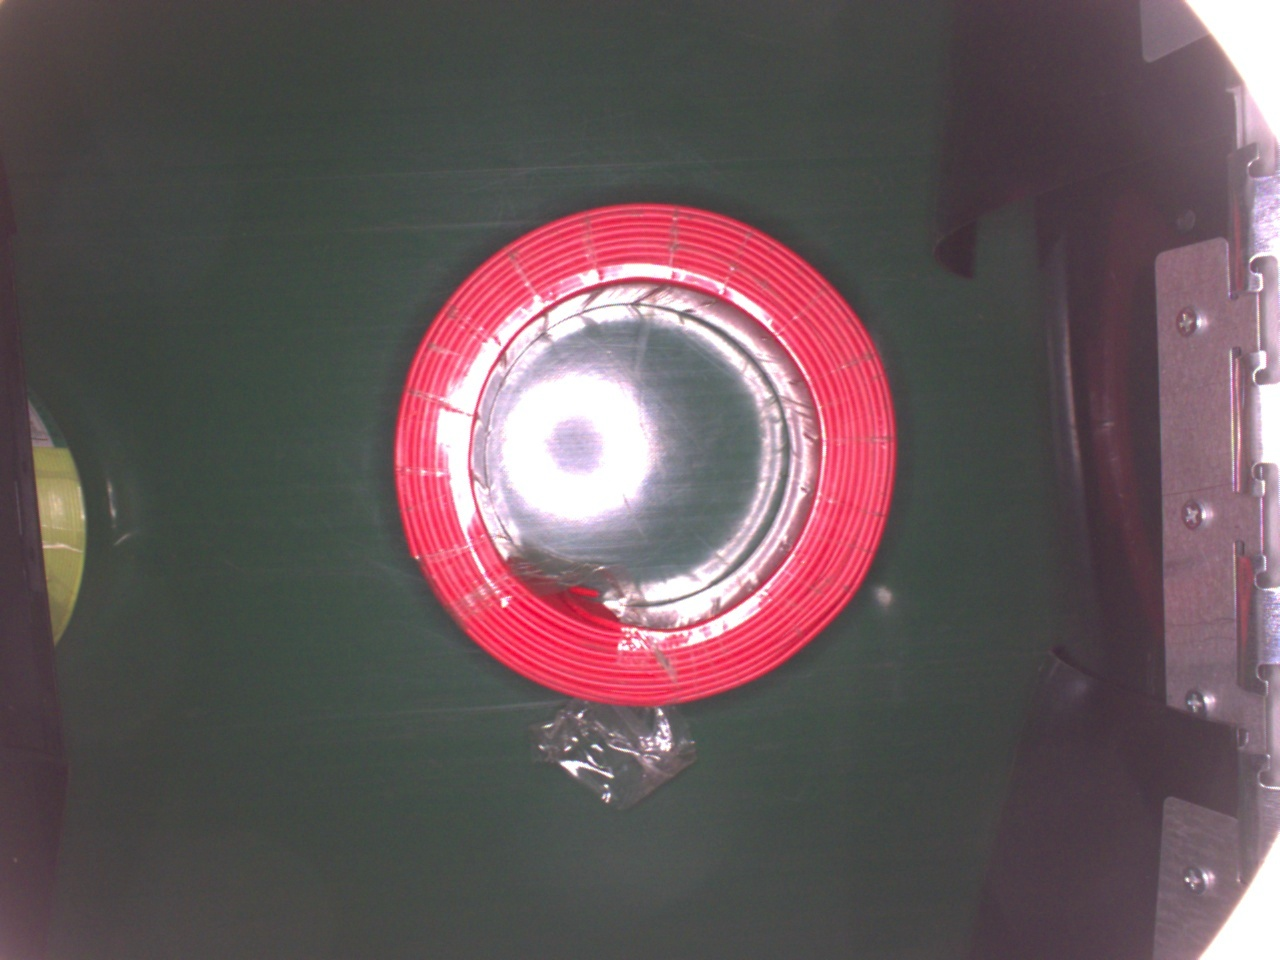red: (383, 199, 903, 720)
